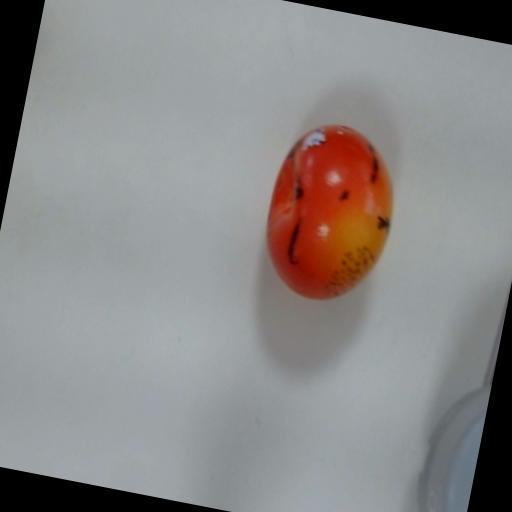Defective: (236, 106, 430, 333)
